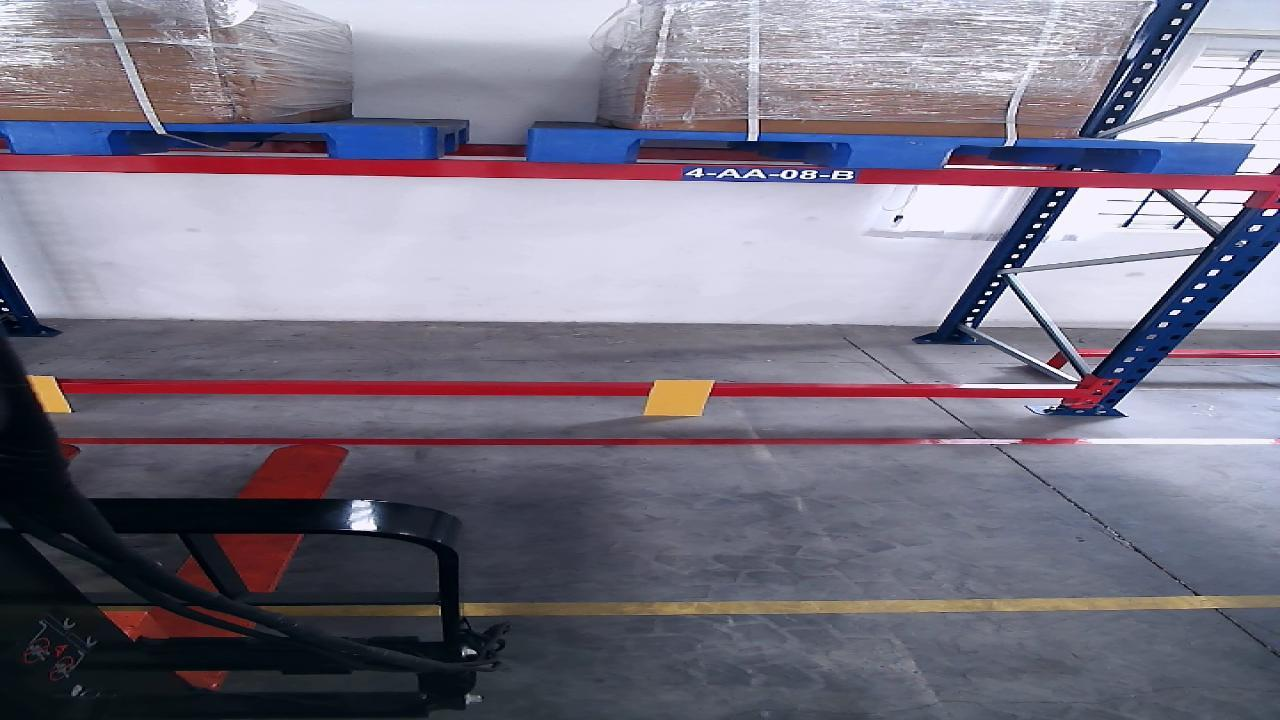h_rack: (3, 154, 1271, 190), (62, 384, 1074, 398)
orange_strip: (644, 379, 710, 414)
red_line: (61, 438, 1279, 445)
small_pallet: (528, 129, 1247, 172), (5, 122, 432, 161)
yellow_line: (270, 595, 1277, 615)
